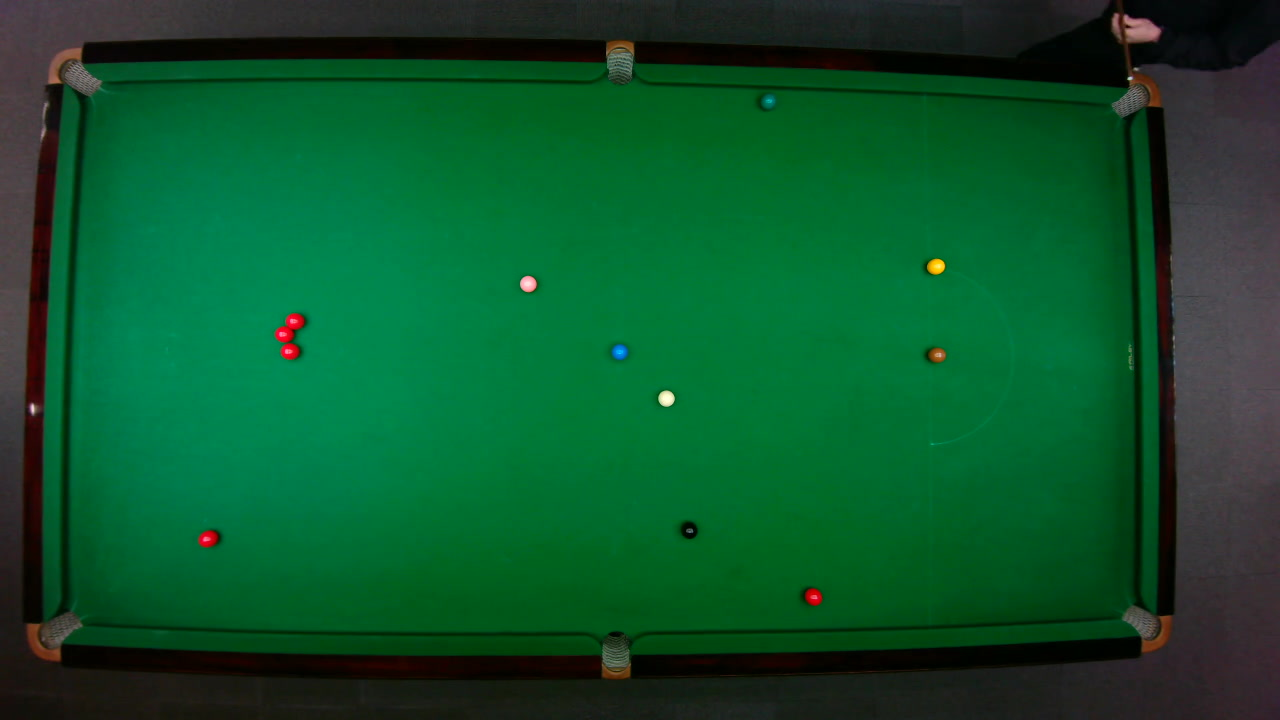bag: (24, 609, 83, 662), (46, 46, 102, 96), (1119, 603, 1171, 652), (1108, 72, 1161, 117), (600, 629, 629, 680), (605, 38, 633, 85)
black: (680, 521, 697, 539)
blue: (610, 342, 628, 360)
brown: (926, 346, 946, 362)
cue: (1114, 0, 1133, 82)
green: (759, 93, 776, 110)
pink: (517, 274, 537, 292)
red: (196, 528, 219, 547), (803, 586, 823, 606), (284, 311, 305, 330), (279, 342, 300, 360), (273, 324, 293, 342)
white: (655, 388, 676, 407)
yellow: (925, 257, 946, 275)
zone: (926, 264, 1013, 445)
